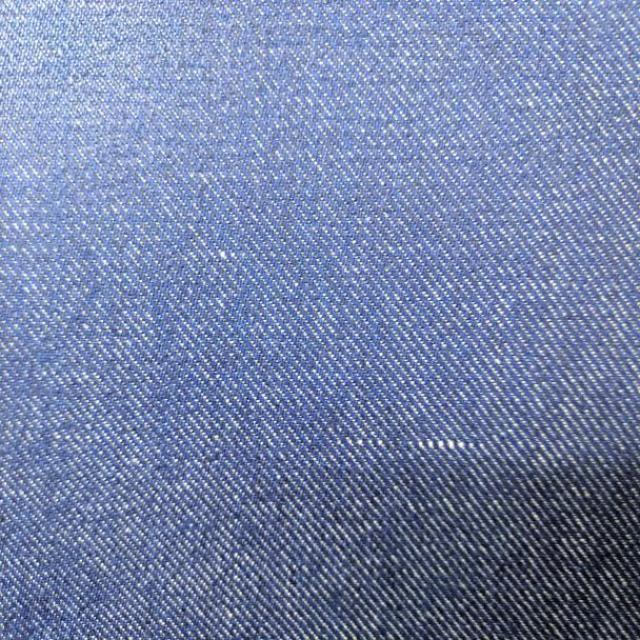Knot: (408, 439, 477, 453)
